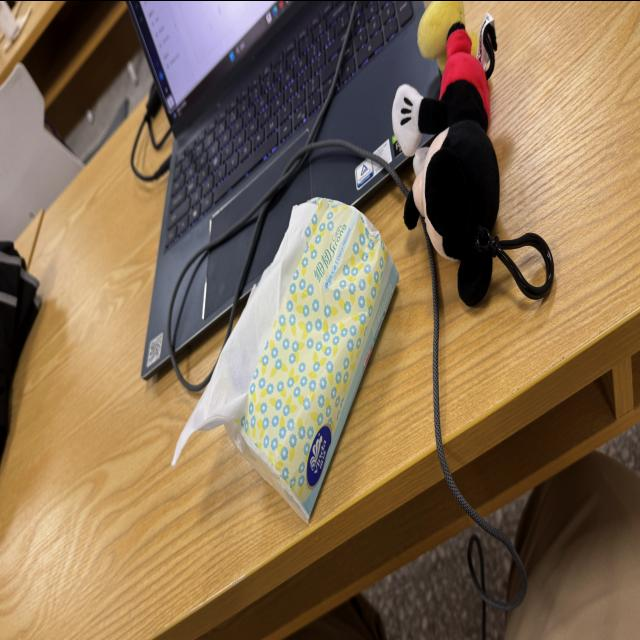mickey: (393, 1, 499, 304)
tissue: (173, 198, 397, 520)
